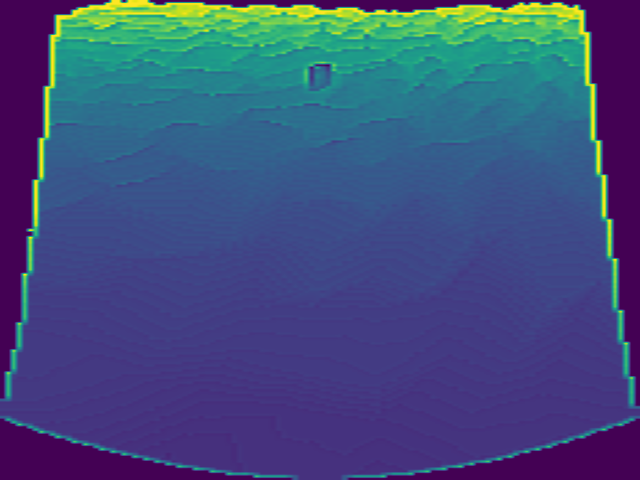car_0198: (307, 63, 332, 90)
